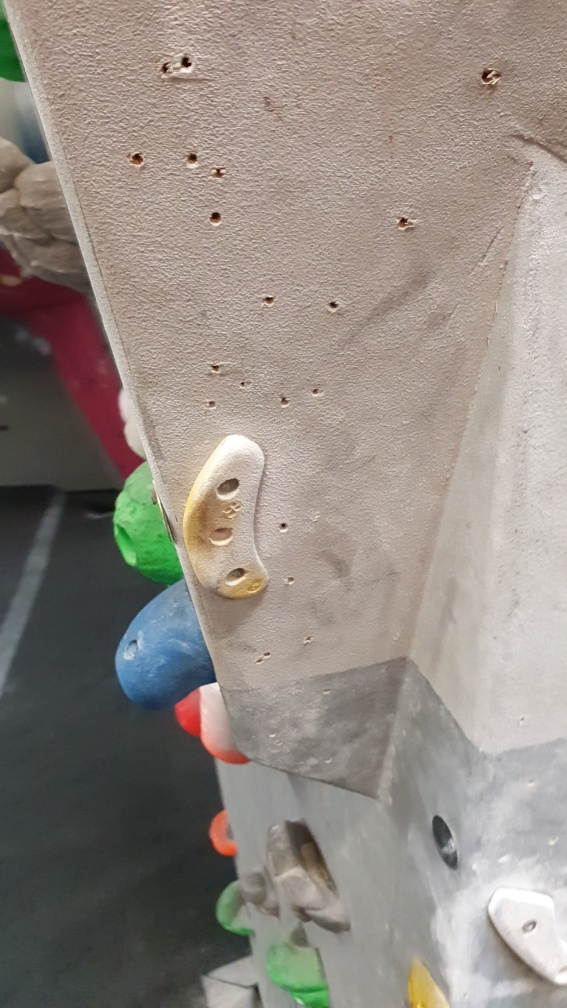Crimp: (489, 881, 567, 996)
Hand Start: (426, 814, 466, 867)
Jug: (261, 815, 354, 938)
